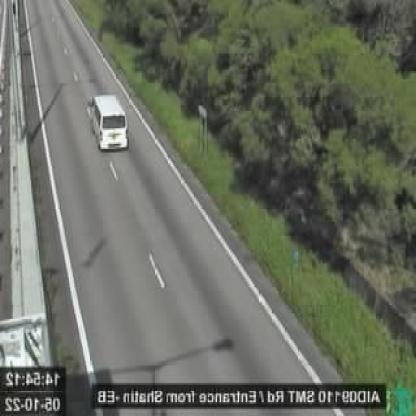Car: (93, 94, 128, 149)
